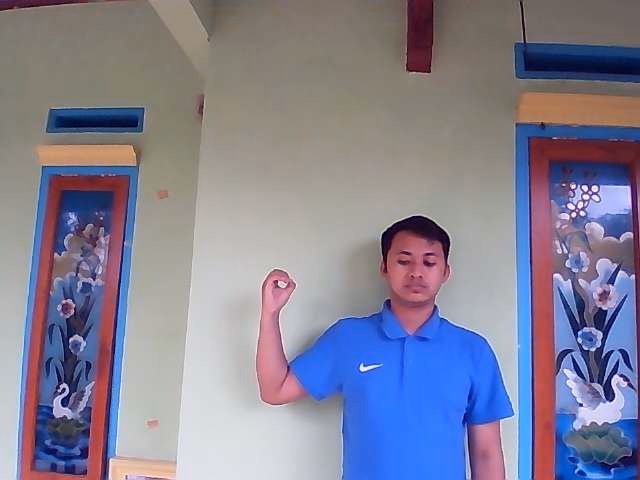O: (261, 267, 296, 313)
